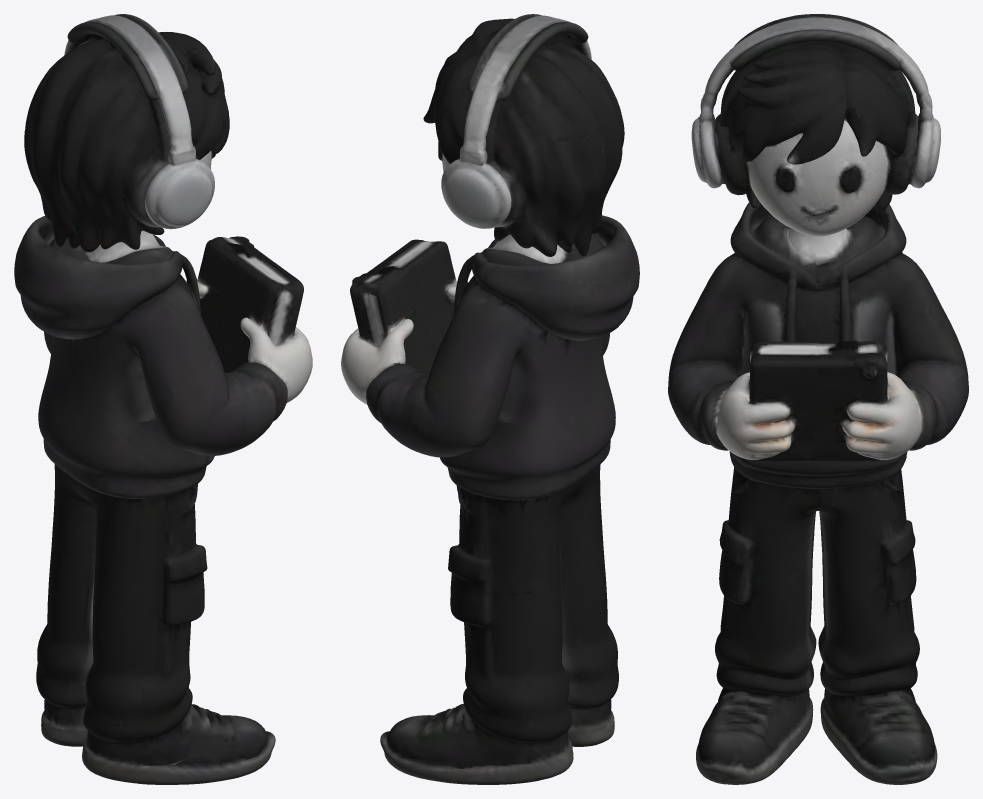
File: audience-05.glb
The picture shows the model from 3 angles, left to right: view 1: azimuth 30°, elevation 25°; view 2: azimuth 150°, elevation 25°; view 3: azimuth 270°, elevation 25°; orthographic projection.
Parts seen in each view (by area): view 1: tripo_node_b29dbfe9-08a2-4d80-867b-b0cf2dc63a5c; view 2: tripo_node_b29dbfe9-08a2-4d80-867b-b0cf2dc63a5c; view 3: tripo_node_b29dbfe9-08a2-4d80-867b-b0cf2dc63a5c.
Boxes of the visible parts, bbox=[...] form: tripo_node_b29dbfe9-08a2-4d80-867b-b0cf2dc63a5c: bbox=[14, 14, 312, 784]; tripo_node_b29dbfe9-08a2-4d80-867b-b0cf2dc63a5c: bbox=[341, 14, 639, 784]; tripo_node_b29dbfe9-08a2-4d80-867b-b0cf2dc63a5c: bbox=[668, 14, 968, 784].
Size of the model in its own units: 0.6241 by 1.7 by 0.6409.
Materials: 1 (1 with a texture image).
